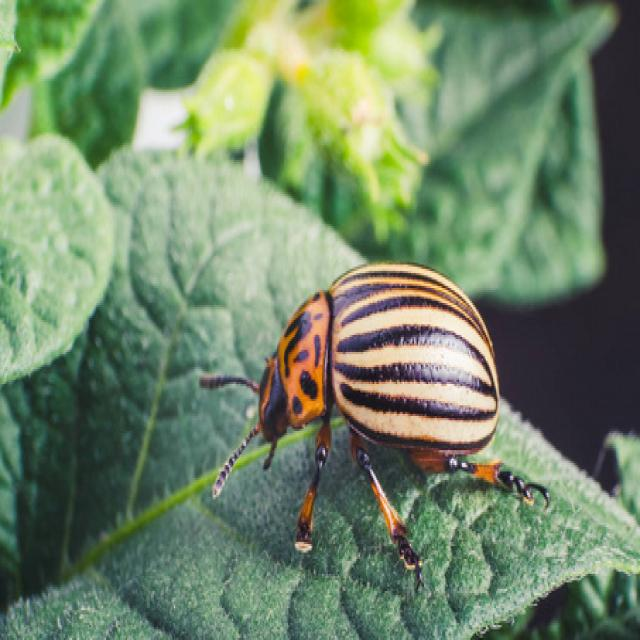ShuCaiHuaBanChong-Grown-: (251, 251, 525, 527)
